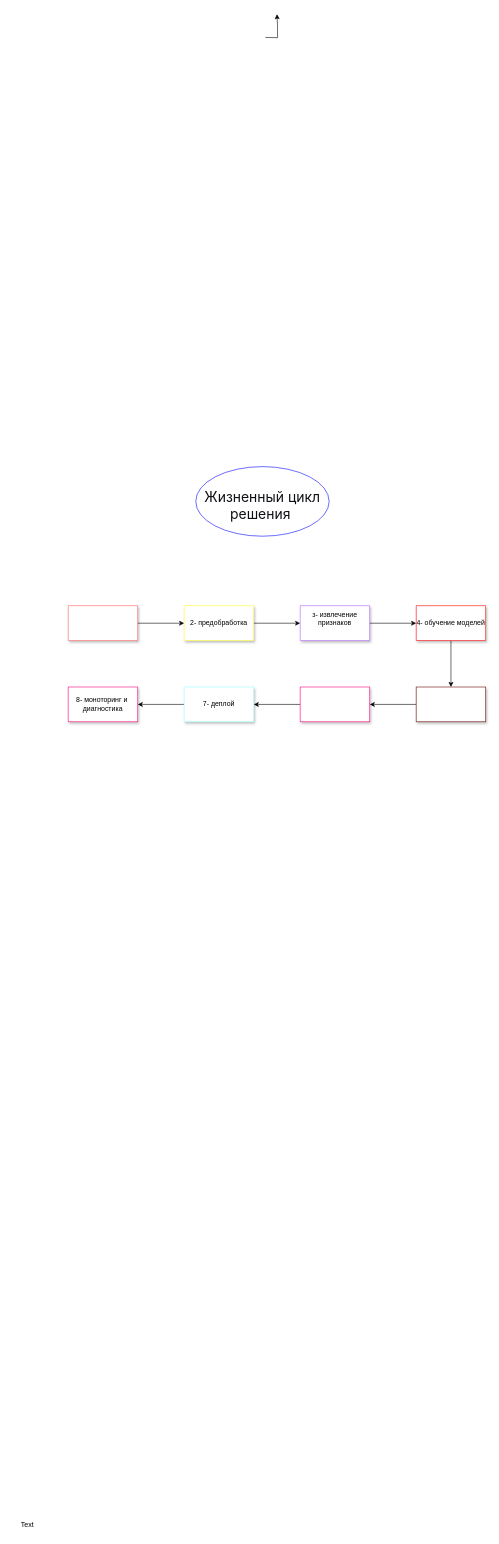
The diagram is 499 pixels wide and 1544 high, and some of its shapes have lost their labels. Each missing label, with the centre of its shape:
"1- сбор данных" belongs at point 103,624.
"5- voting classifier" belongs at point 451,705.
"6- оценка" belongs at point 335,705.
